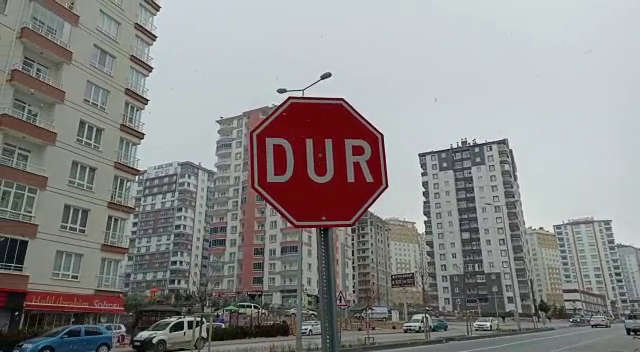stop: (247, 94, 392, 230)
